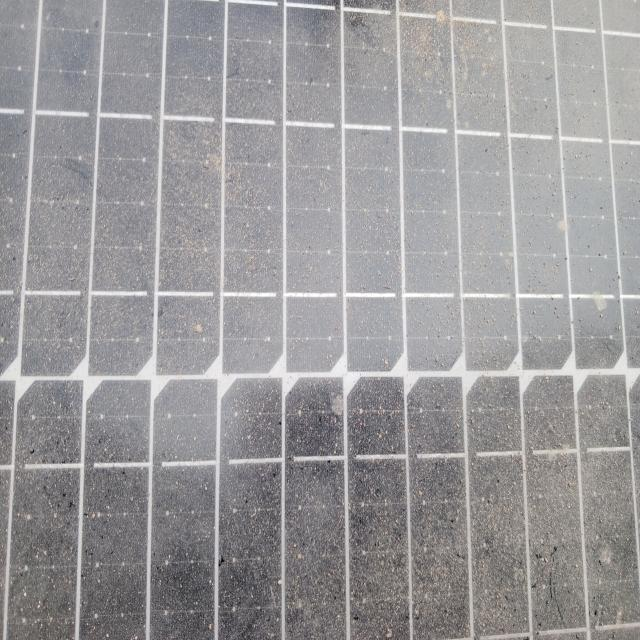Surface Contaminant: (19, 25, 633, 632)
